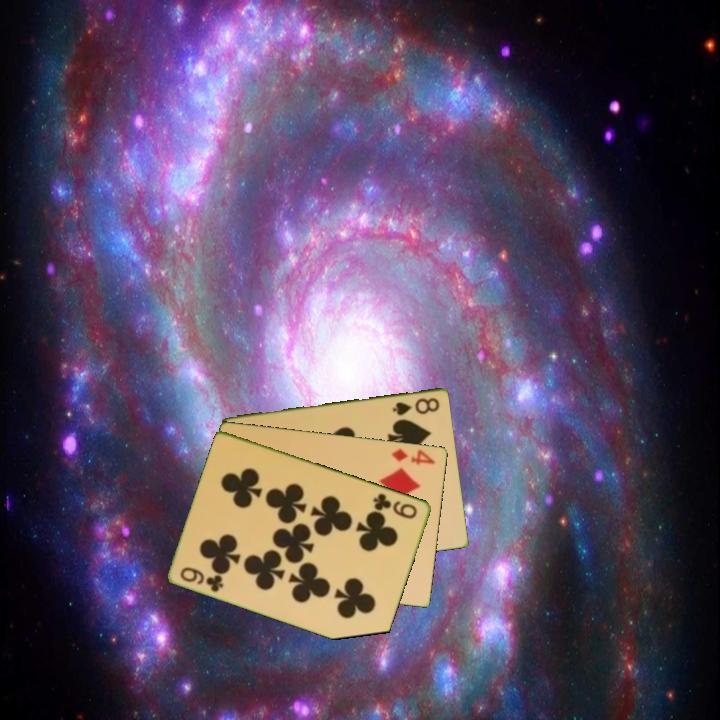4d: (389, 445, 438, 467)
8s: (389, 394, 443, 418)
9c: (370, 489, 420, 522), (177, 563, 227, 595)
